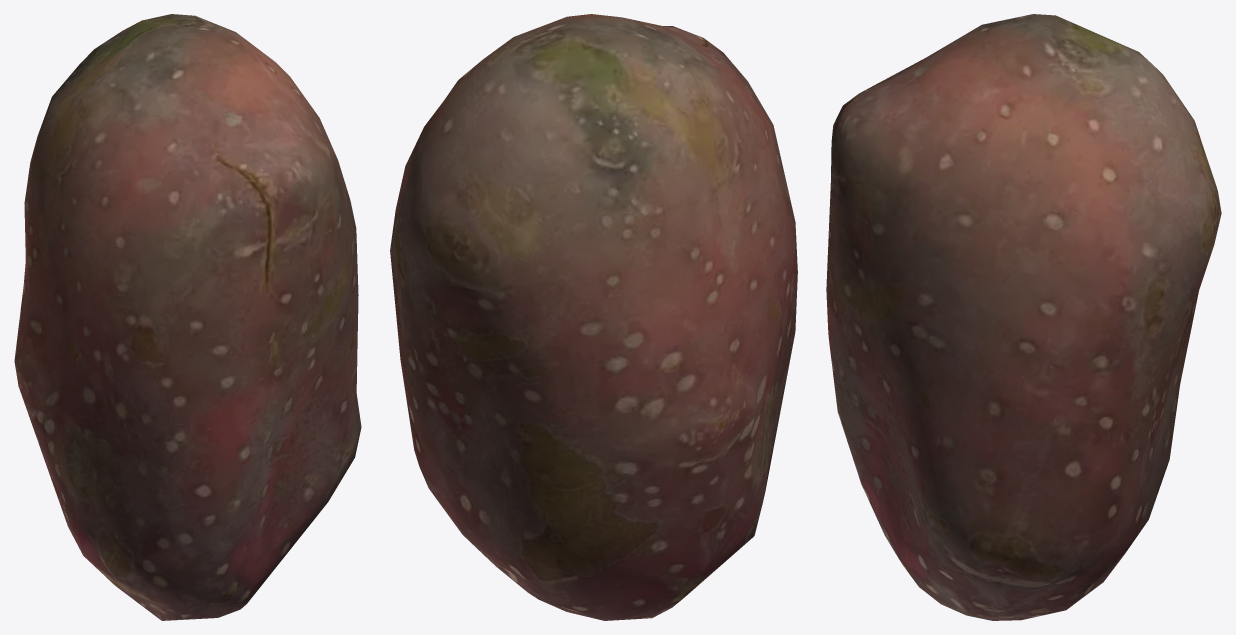
File: sweet_potato.glb
3 views of the same model, side by side, from view 1: azimuth 30°, elevation 25°; view 2: azimuth 150°, elevation 25°; view 3: azimuth 270°, elevation 25° (orthographic). The views are drawn at different scales.
Visible parts, largest first — view 1: sweet_potato; view 2: sweet_potato; view 3: sweet_potato.
Part boxes in pixels (left/top/right/bottom): sweet_potato: left=14, top=14, right=361, bottom=620; sweet_potato: left=390, top=14, right=797, bottom=620; sweet_potato: left=826, top=14, right=1221, bottom=620.
Bounding box in the file's own units: 0.0578 × 0.1003 × 0.061.
1 material, 1 textured.
